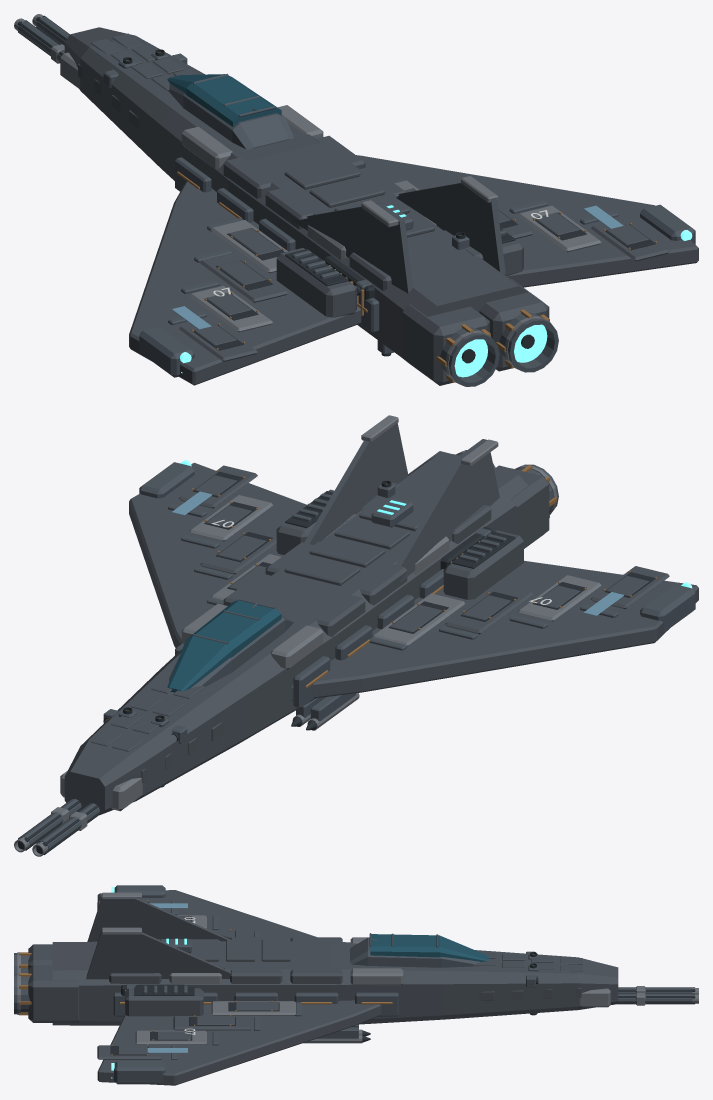
File: interceptor.glb
3 views of the same model, one above another, from view 1: azimuth 30°, elevation 25°; view 2: azimuth 150°, elevation 25°; view 3: azimuth 270°, elevation 25° (orthographic). The views are drawn at different scales.
Visible parts, largest first — view 1: FleetHull; view 2: FleetHull; view 3: FleetHull.
Boxes of the visible parts, x1,y1,x2,y2 form: FleetHull: (14,14,698,386); FleetHull: (14,415,698,856); FleetHull: (14,885,698,1085).
Size of the model in its own units: 19.58 by 5.87 by 30.63.
